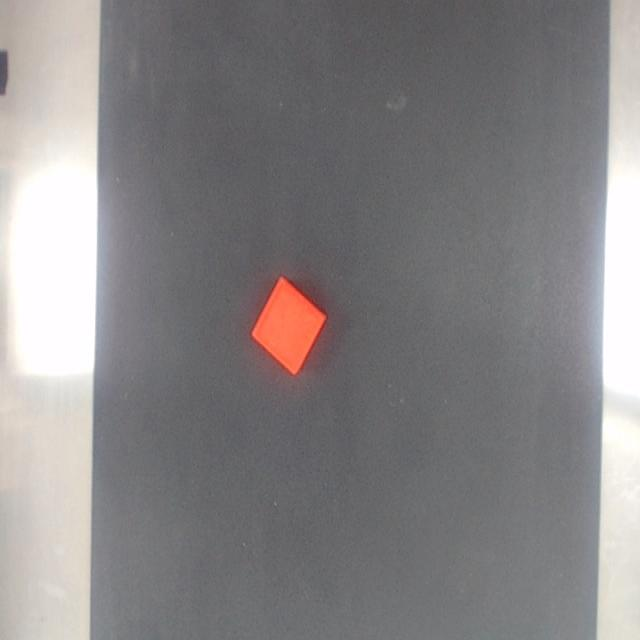Rojo: (251, 276, 326, 376)
